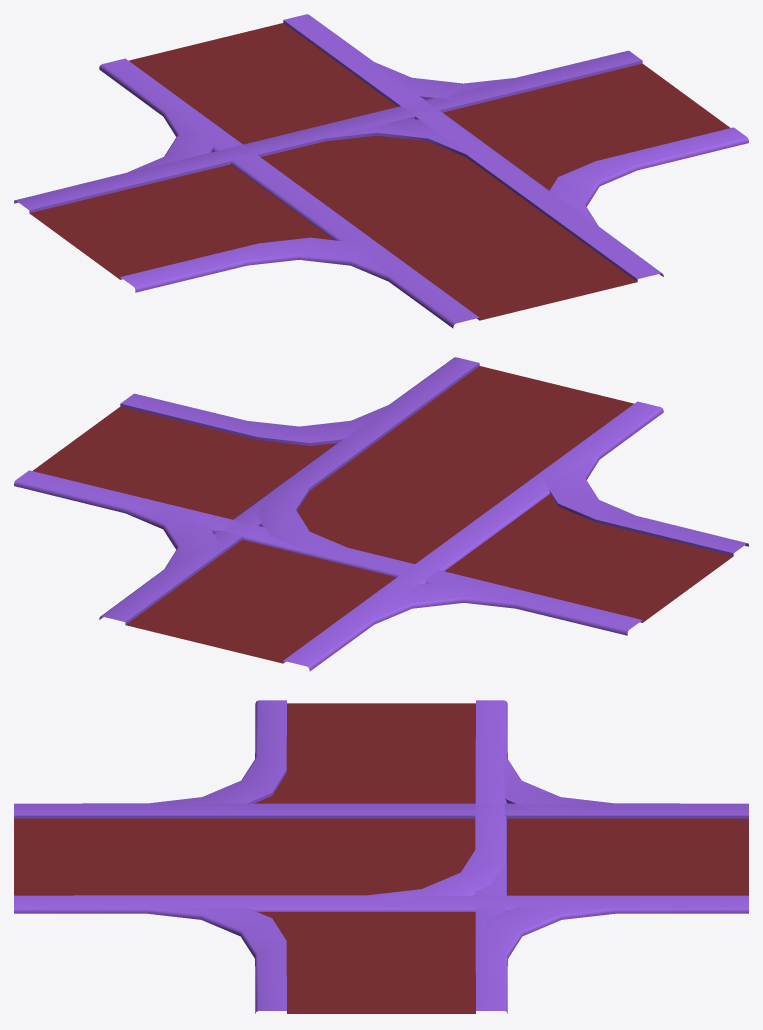
Rendered from WalkRoad_Set_2.fbx.
3 renders of one model, top to bottom at view 1: azimuth 30°, elevation 25°; view 2: azimuth 150°, elevation 25°; view 3: azimuth 270°, elevation 25°, orthographic. The views are drawn at different scales.
Visible parts, largest first — view 1: WalkRoad_T, WalkRoad_1, WalkRoad_Corner, WalkRoad_X; view 2: WalkRoad_Corner, WalkRoad_X, WalkRoad_1, WalkRoad_T; view 3: WalkRoad_X, WalkRoad_Corner, WalkRoad_T, WalkRoad_1.
Part boxes in pixels (x1,y1,x2,y2): WalkRoad_T: (15,51,748,320); WalkRoad_1: (102,14,660,323); WalkRoad_Corner: (14,117,663,328); WalkRoad_X: (16,14,729,277); WalkRoad_Corner: (257,358,748,629); WalkRoad_X: (14,407,731,671); WalkRoad_1: (99,357,660,666); WalkRoad_T: (16,357,731,628); WalkRoad_X: (251,700,748,1013); WalkRoad_Corner: (14,700,506,908); WalkRoad_T: (14,700,506,1013); WalkRoad_1: (14,803,748,911).
Bounding box in the file's own units: 2540 × 18.25 × 2540.
